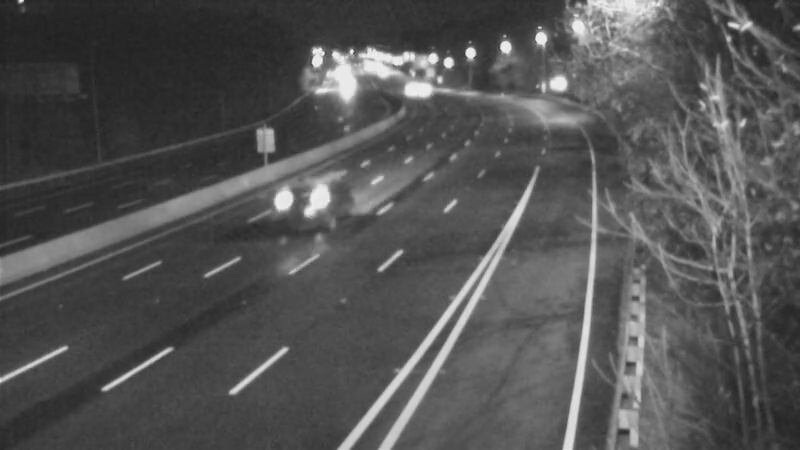vehicle: (264, 166, 344, 246), (396, 62, 446, 112), (387, 65, 437, 115)
